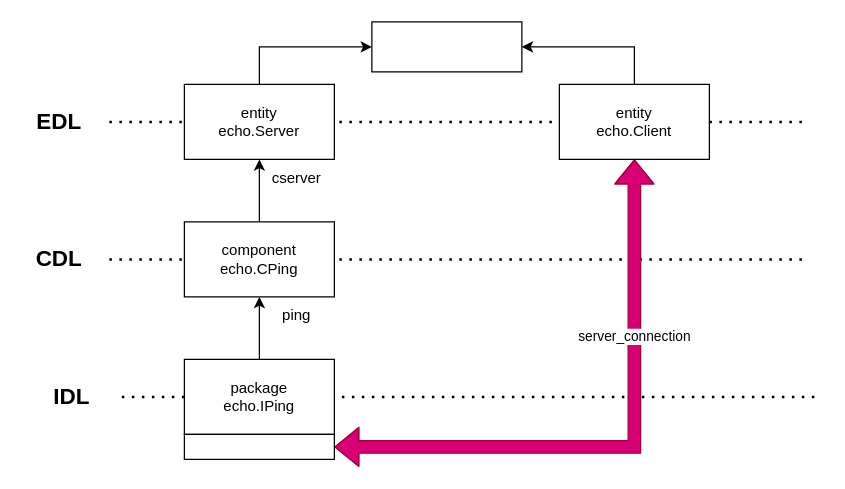
This 845x489 diagram has some shape labels left out. Here are the shapes that lost their labels. From the top down, the box of each, then its label:
(371, 21, 522, 72): project (echo)
(183, 433, 334, 459): FPing(value, result)
